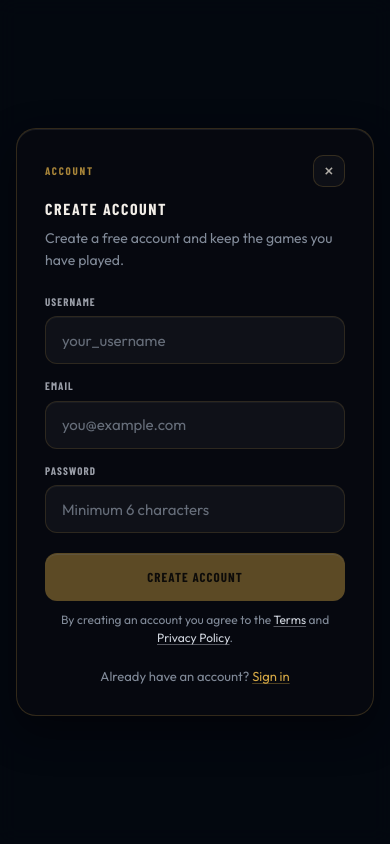
Test: AuthModal for a guest › is honest that signing in to an existing account replaces the guest session
The width and height of the screenshot is (390, 844).
Click the button "Already have an account? Sign in".
click(195, 677)  # box [100,663,290,691]
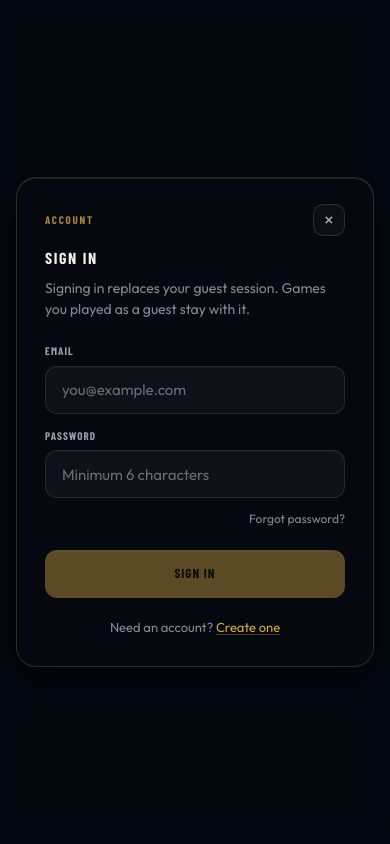
expect the heading "Sign in" is shown: met, box [45,248,98,268]
expect the text "Signing in replaces your guest session. Games you played as a guest stay with it." is shown: met, box [45,279,326,318]
